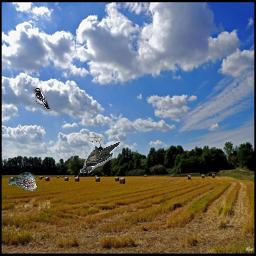Crow: (80, 137, 120, 173)
Sparrow: (8, 172, 38, 191)
Woodpecker: (33, 88, 50, 109)
